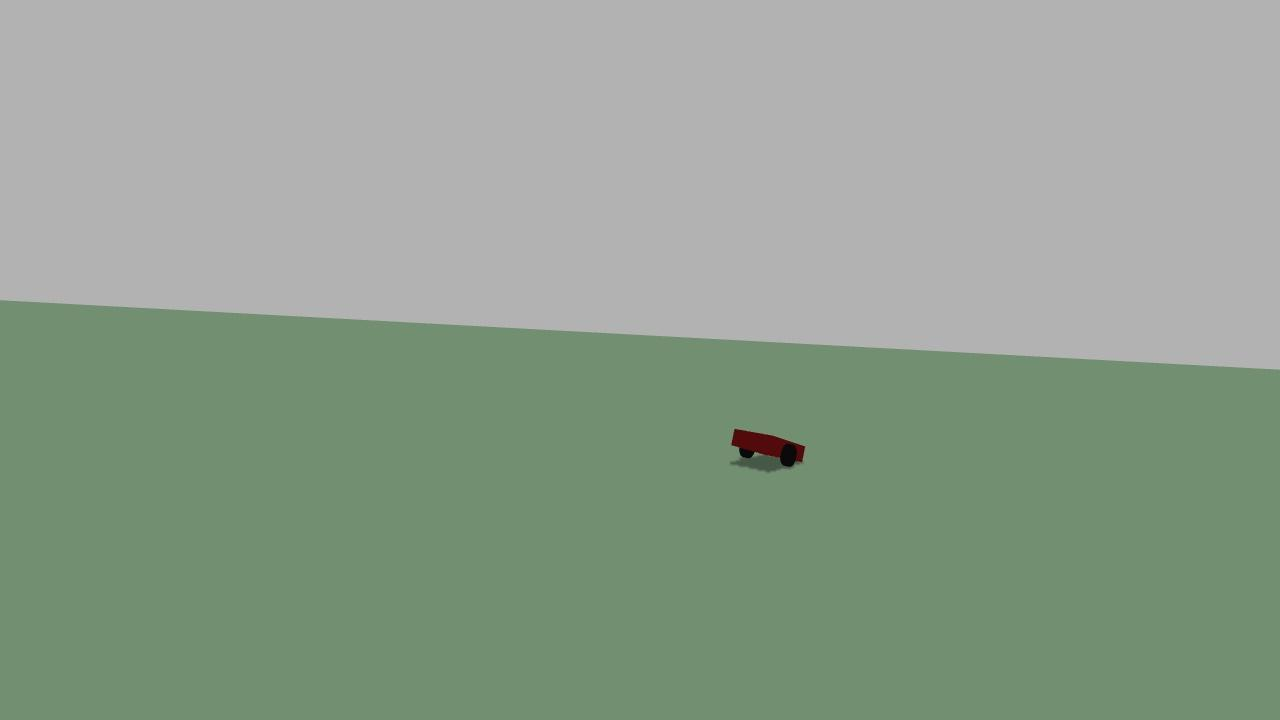ground_vehicle: (725, 421, 813, 479)
